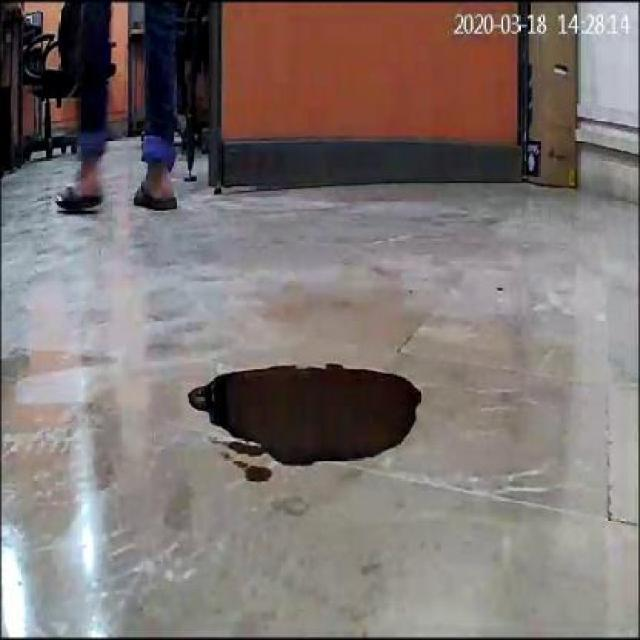spill: (183, 366, 423, 464)
